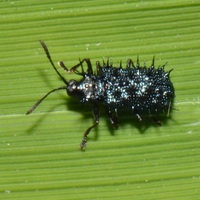insect: (26, 40, 173, 149)
